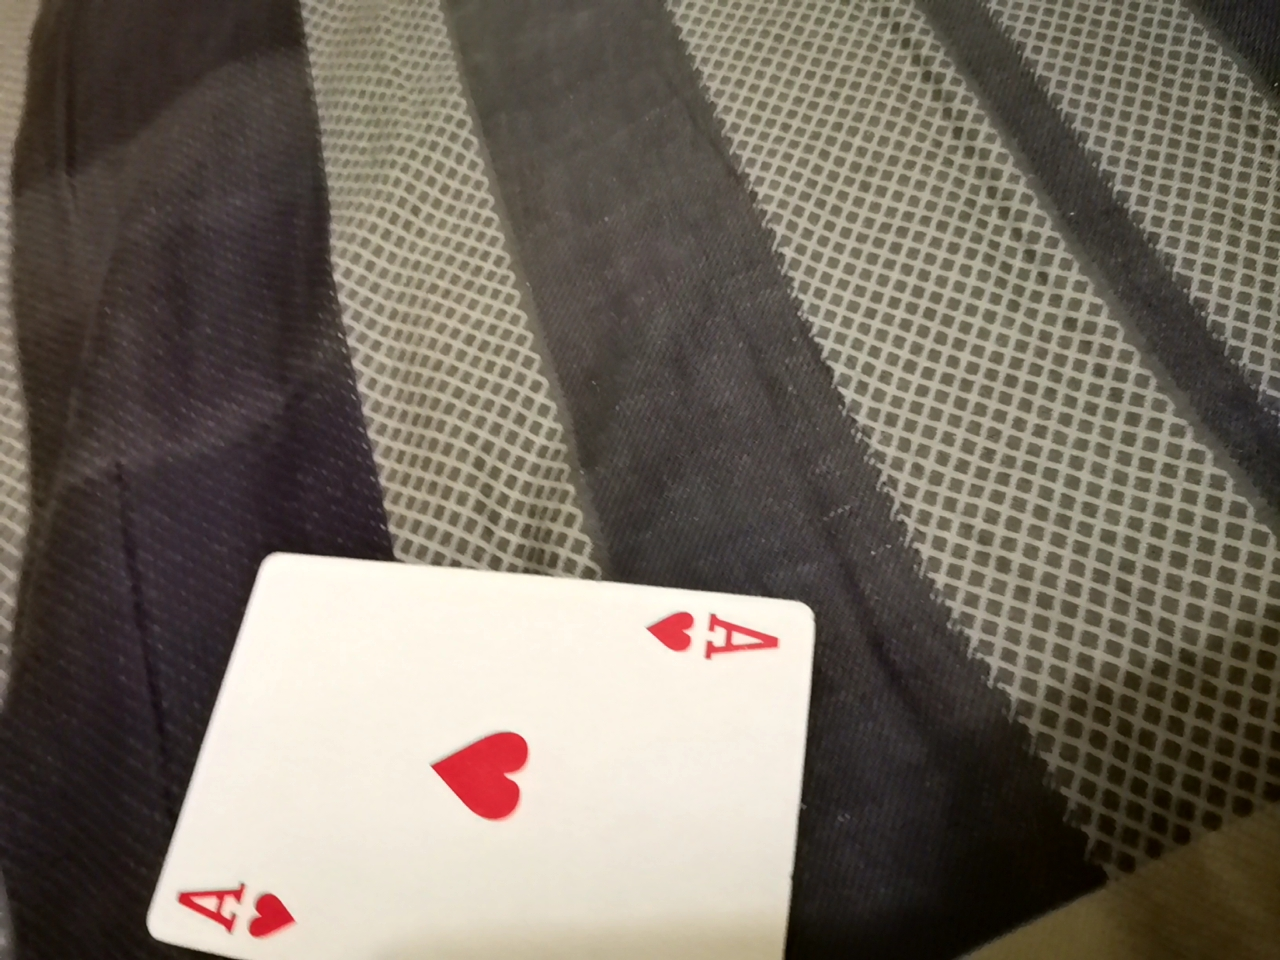hx a: (181, 568, 841, 958)
